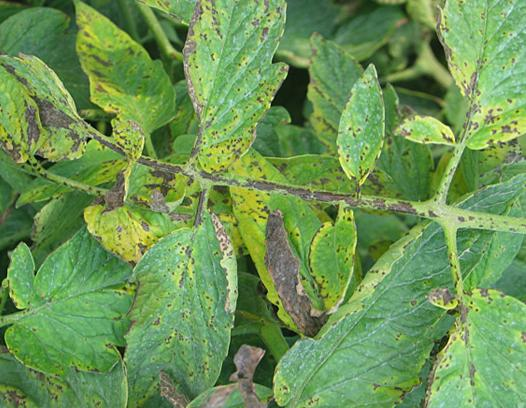Tomato leaf bacterial spot: (273, 178, 526, 408), (116, 201, 249, 398), (0, 220, 168, 372), (167, 0, 312, 173), (433, 0, 526, 164), (66, 0, 174, 140), (330, 60, 392, 188), (303, 203, 361, 310), (0, 42, 44, 172), (389, 109, 460, 147)
